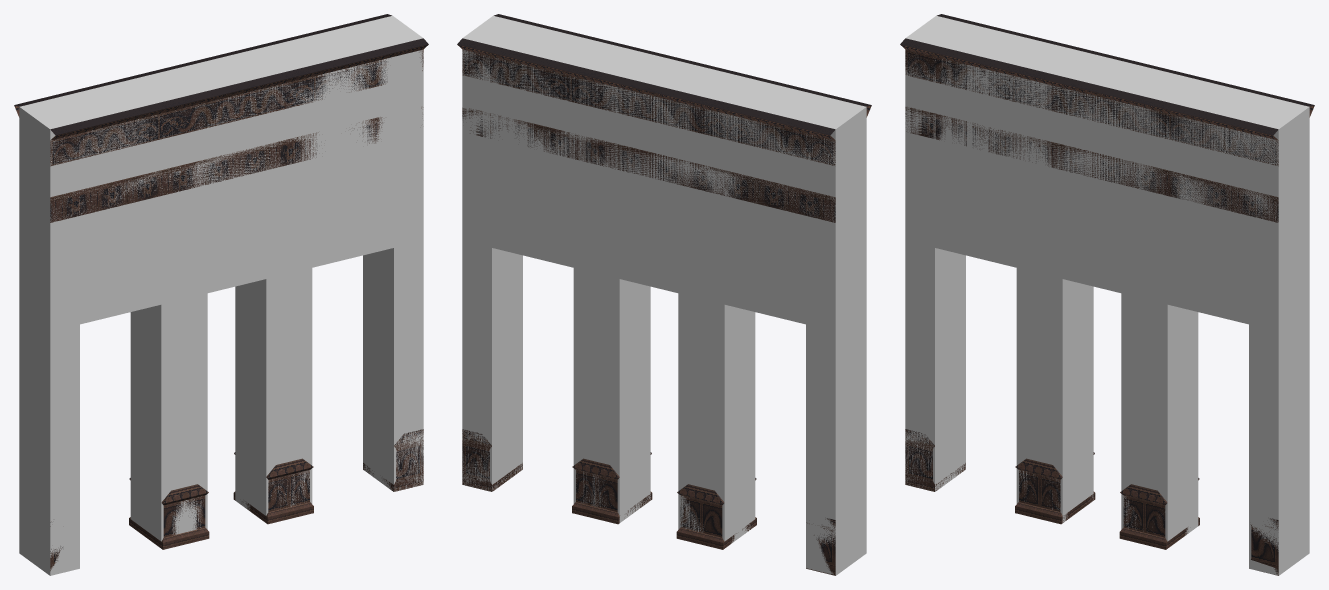
Rendered from sm_arch_wall_03.glb.
3 renders of one model, left to right at view 1: azimuth 30°, elevation 25°; view 2: azimuth 150°, elevation 25°; view 3: azimuth 330°, elevation 25°, orthographic.
Parts seen in each view (by area): view 1: arch-colonly.001, arch.002-colonly.001, sm_arch_wall_01.011, sm_arch_wall_01.009, sm_arch_wall_01.014; view 2: arch-colonly.001, arch.002-colonly.001, sm_arch_wall_01.011, sm_arch_wall_01.009, sm_arch_wall_01.014; view 3: arch-colonly.001, arch.002-colonly.001, sm_arch_wall_01.011, sm_arch_wall_01.009, sm_arch_wall_01.014.
Part boxes in pixels (<box>): arch-colonly.001: <box>19,15,423,331</box>; arch.002-colonly.001: <box>19,240,423,575</box>; sm_arch_wall_01.011: <box>14,14,428,222</box>; sm_arch_wall_01.009: <box>129,452,313,549</box>; sm_arch_wall_01.014: <box>50,429,423,570</box>; arch-colonly.001: <box>462,15,866,331</box>; arch.002-colonly.001: <box>462,240,866,575</box>; sm_arch_wall_01.011: <box>457,14,871,222</box>; sm_arch_wall_01.009: <box>572,452,756,549</box>; sm_arch_wall_01.014: <box>462,429,835,575</box>; arch-colonly.001: <box>905,15,1309,331</box>; arch.002-colonly.001: <box>905,240,1309,575</box>; sm_arch_wall_01.011: <box>900,14,1314,222</box>; sm_arch_wall_01.009: <box>1015,452,1199,549</box>; sm_arch_wall_01.014: <box>905,429,1278,575</box>.
Bounding box in the file's own units: 7 × 8 × 1.35.
Materials: 2 (1 with a texture image).
